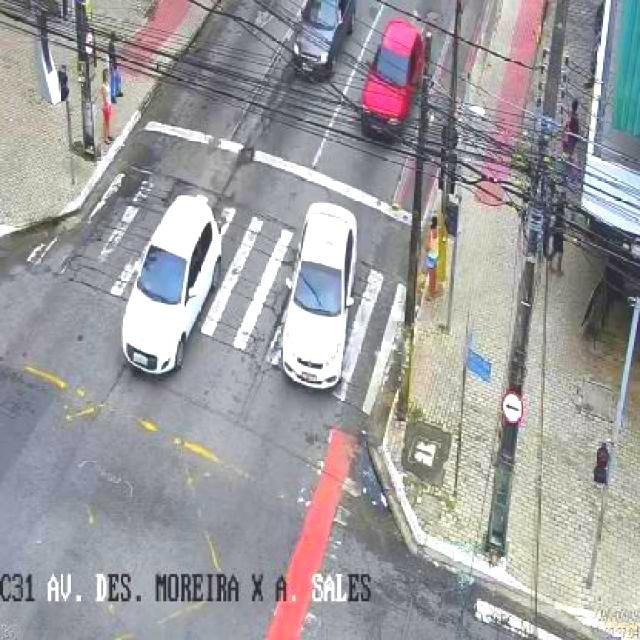Car: (121, 194, 222, 377), (282, 200, 357, 390), (357, 18, 425, 138), (290, 0, 356, 82)
